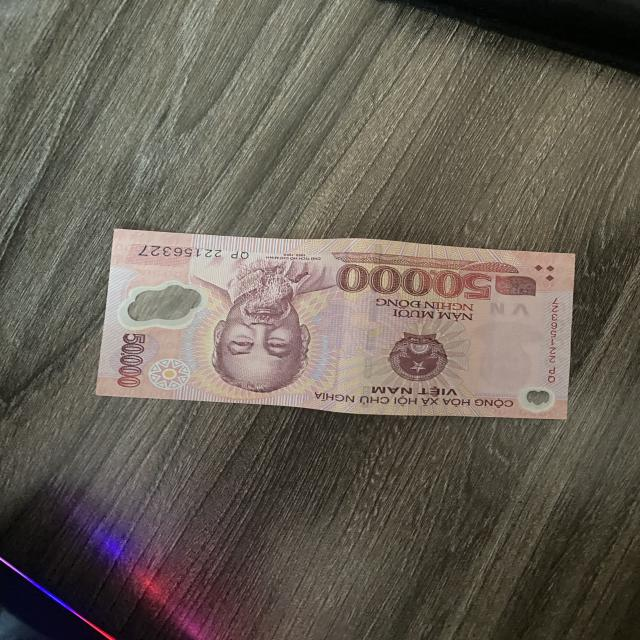50 000 VND: (94, 225, 576, 420)
